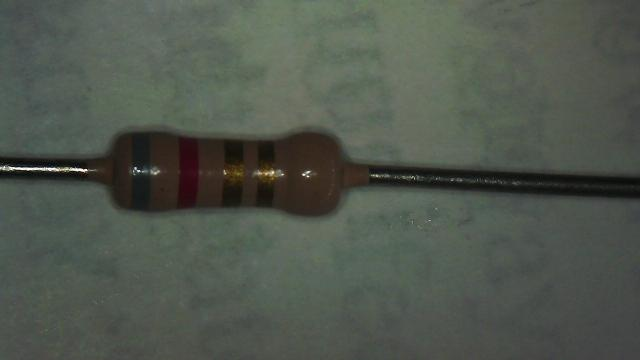gold: (222, 140, 243, 204), (257, 142, 276, 204)
grey: (131, 133, 151, 207)
red: (178, 136, 198, 205)
resistor: (82, 99, 386, 241)
